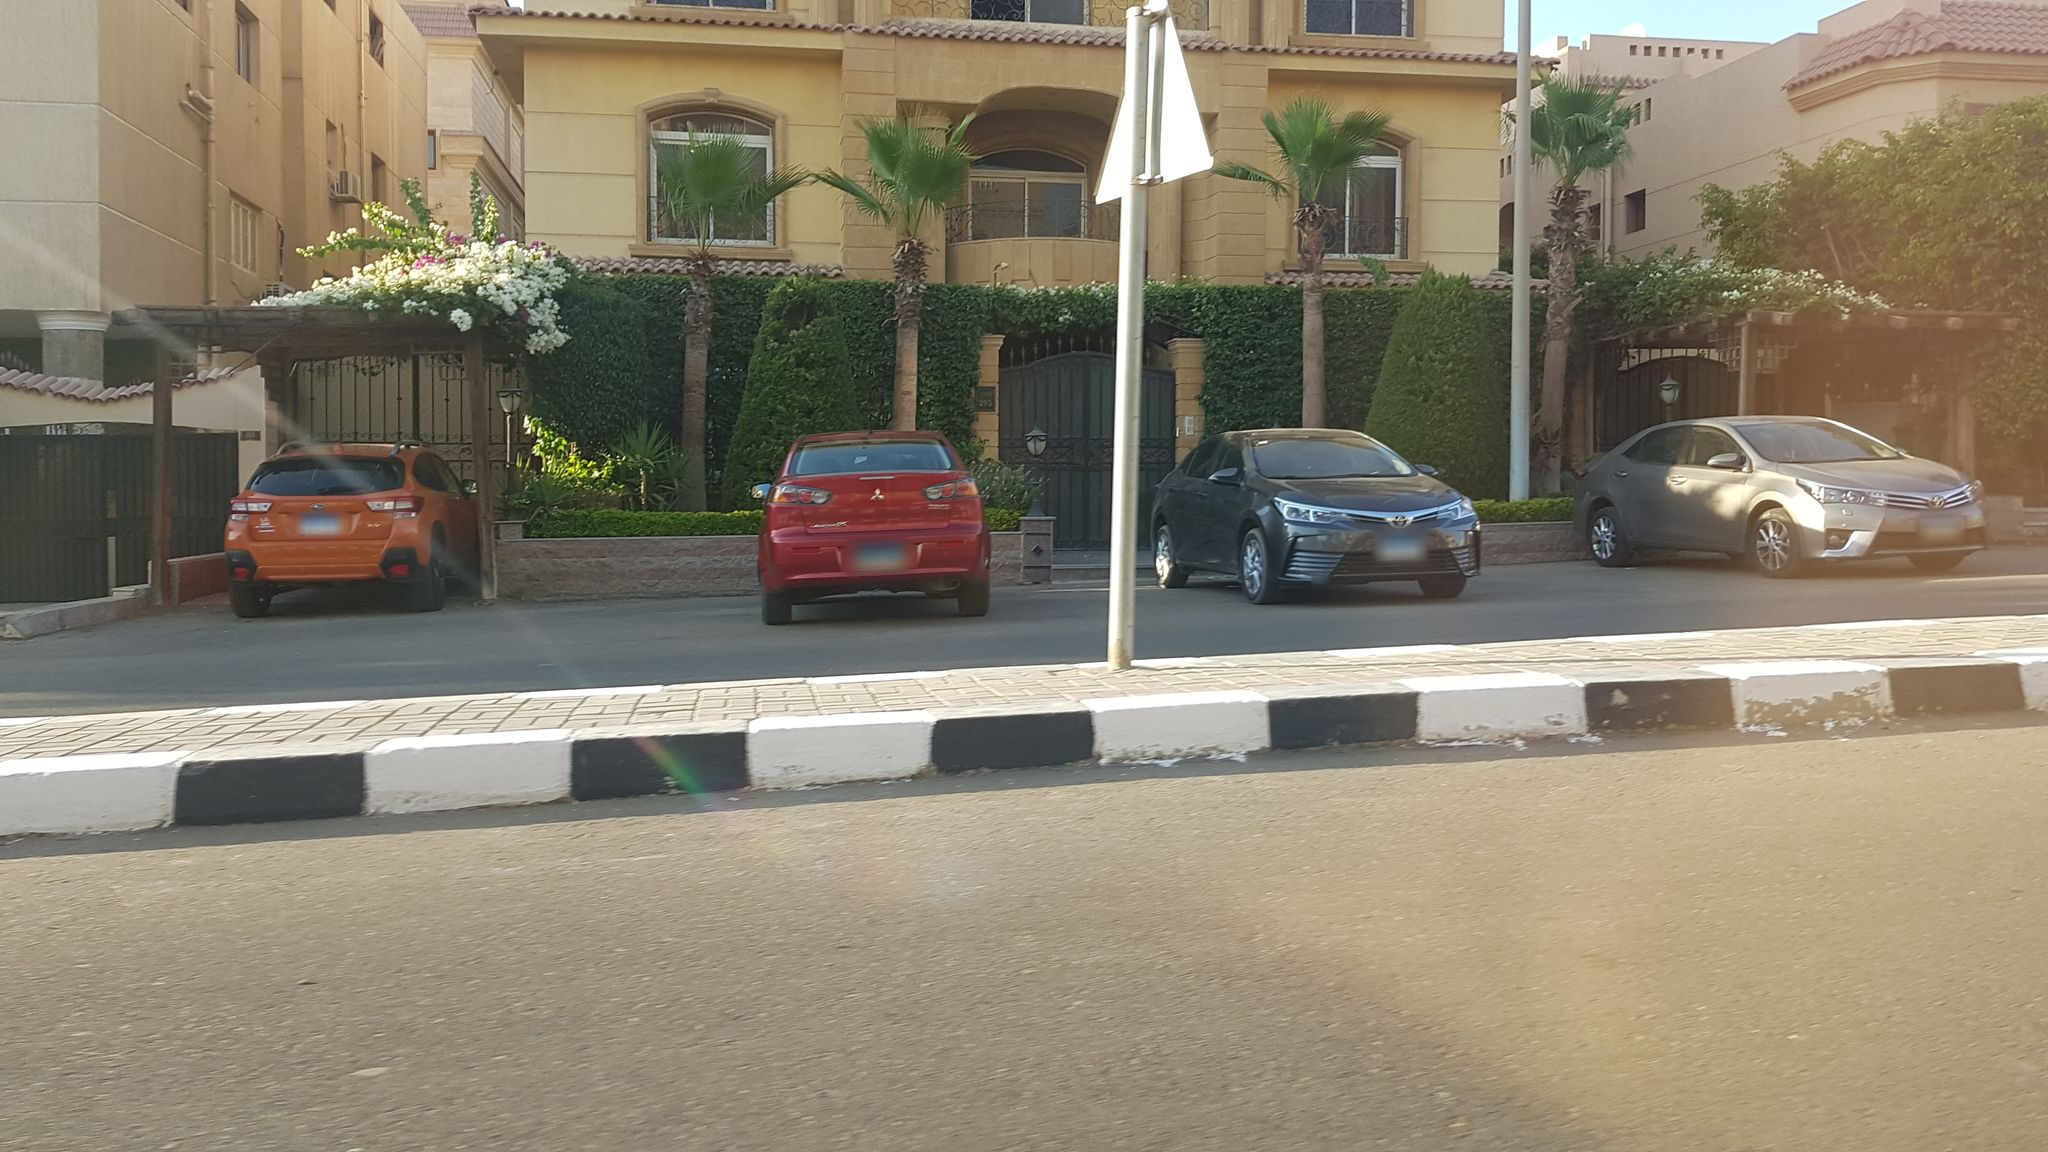car: (1573, 412, 1995, 571), (1151, 426, 1487, 603), (751, 428, 994, 617), (224, 435, 482, 609)
